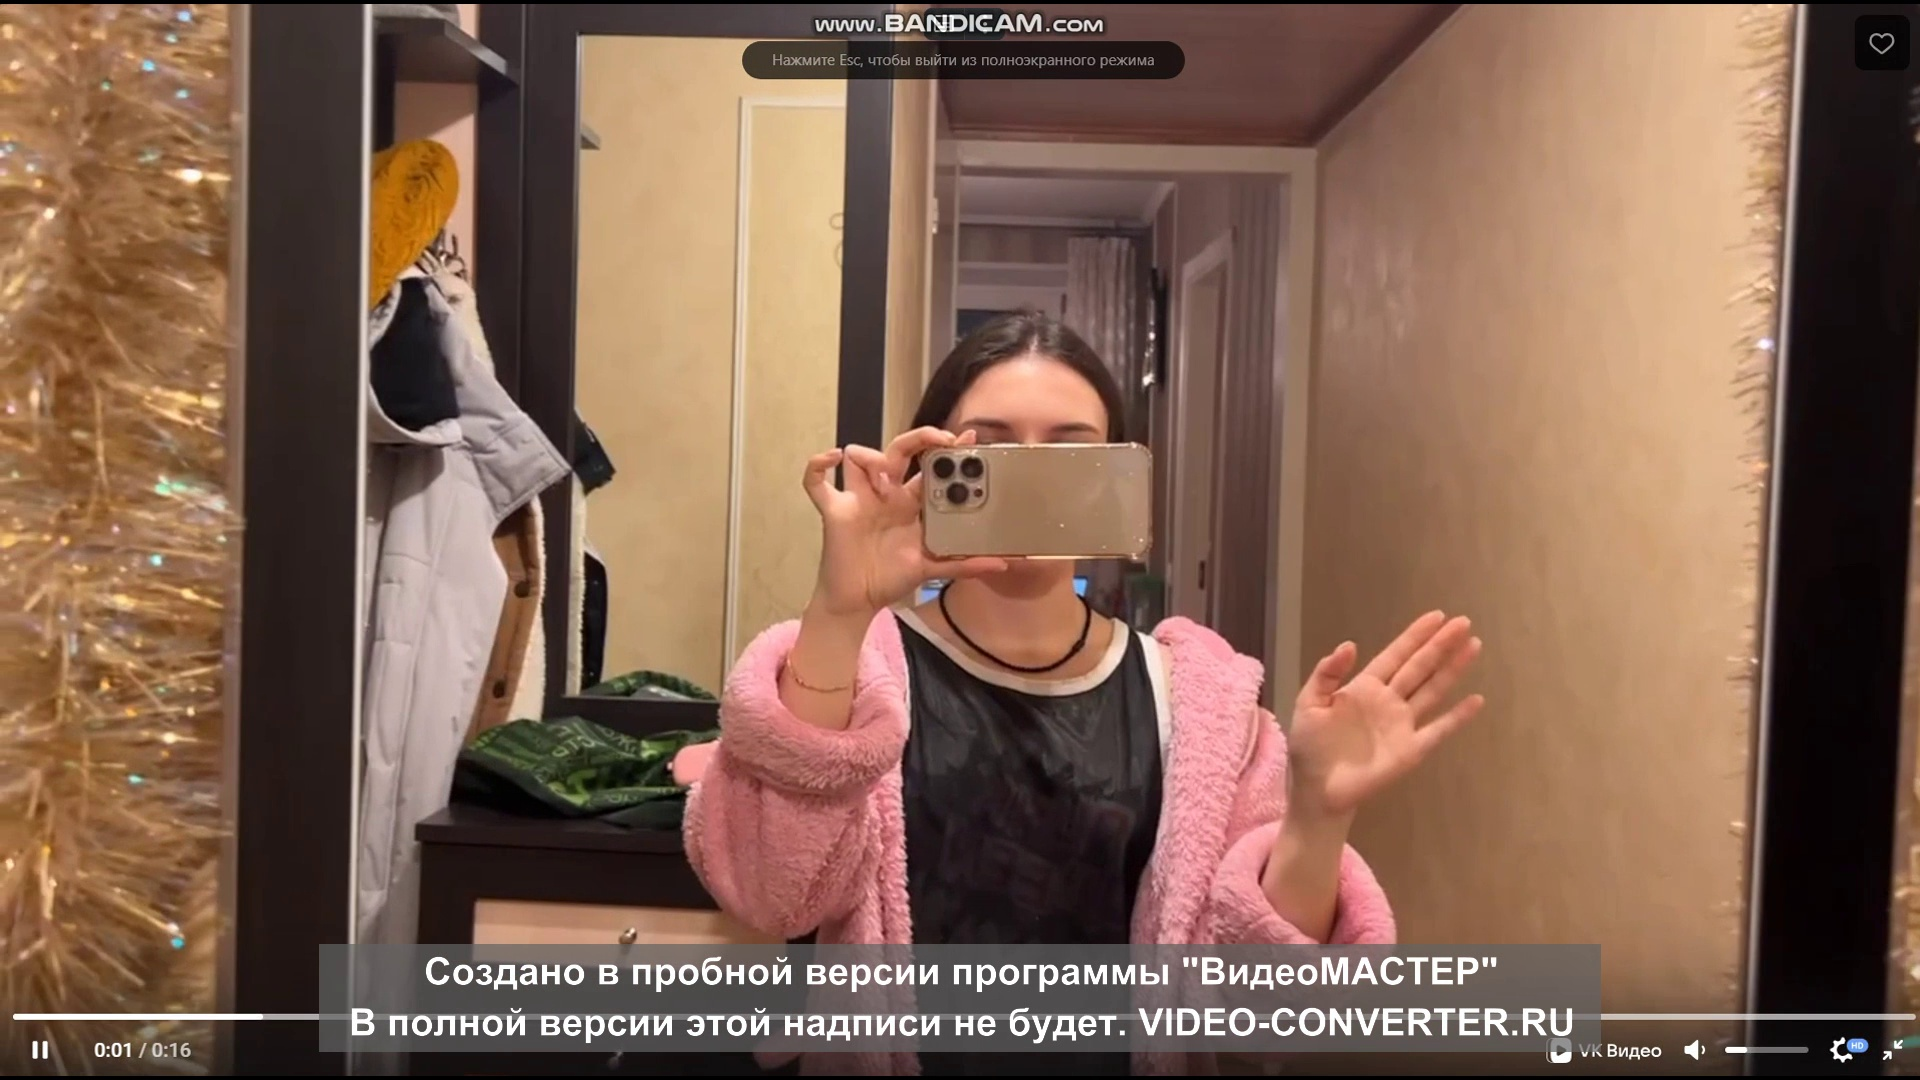Ладонь: (1284, 604, 1484, 803)
